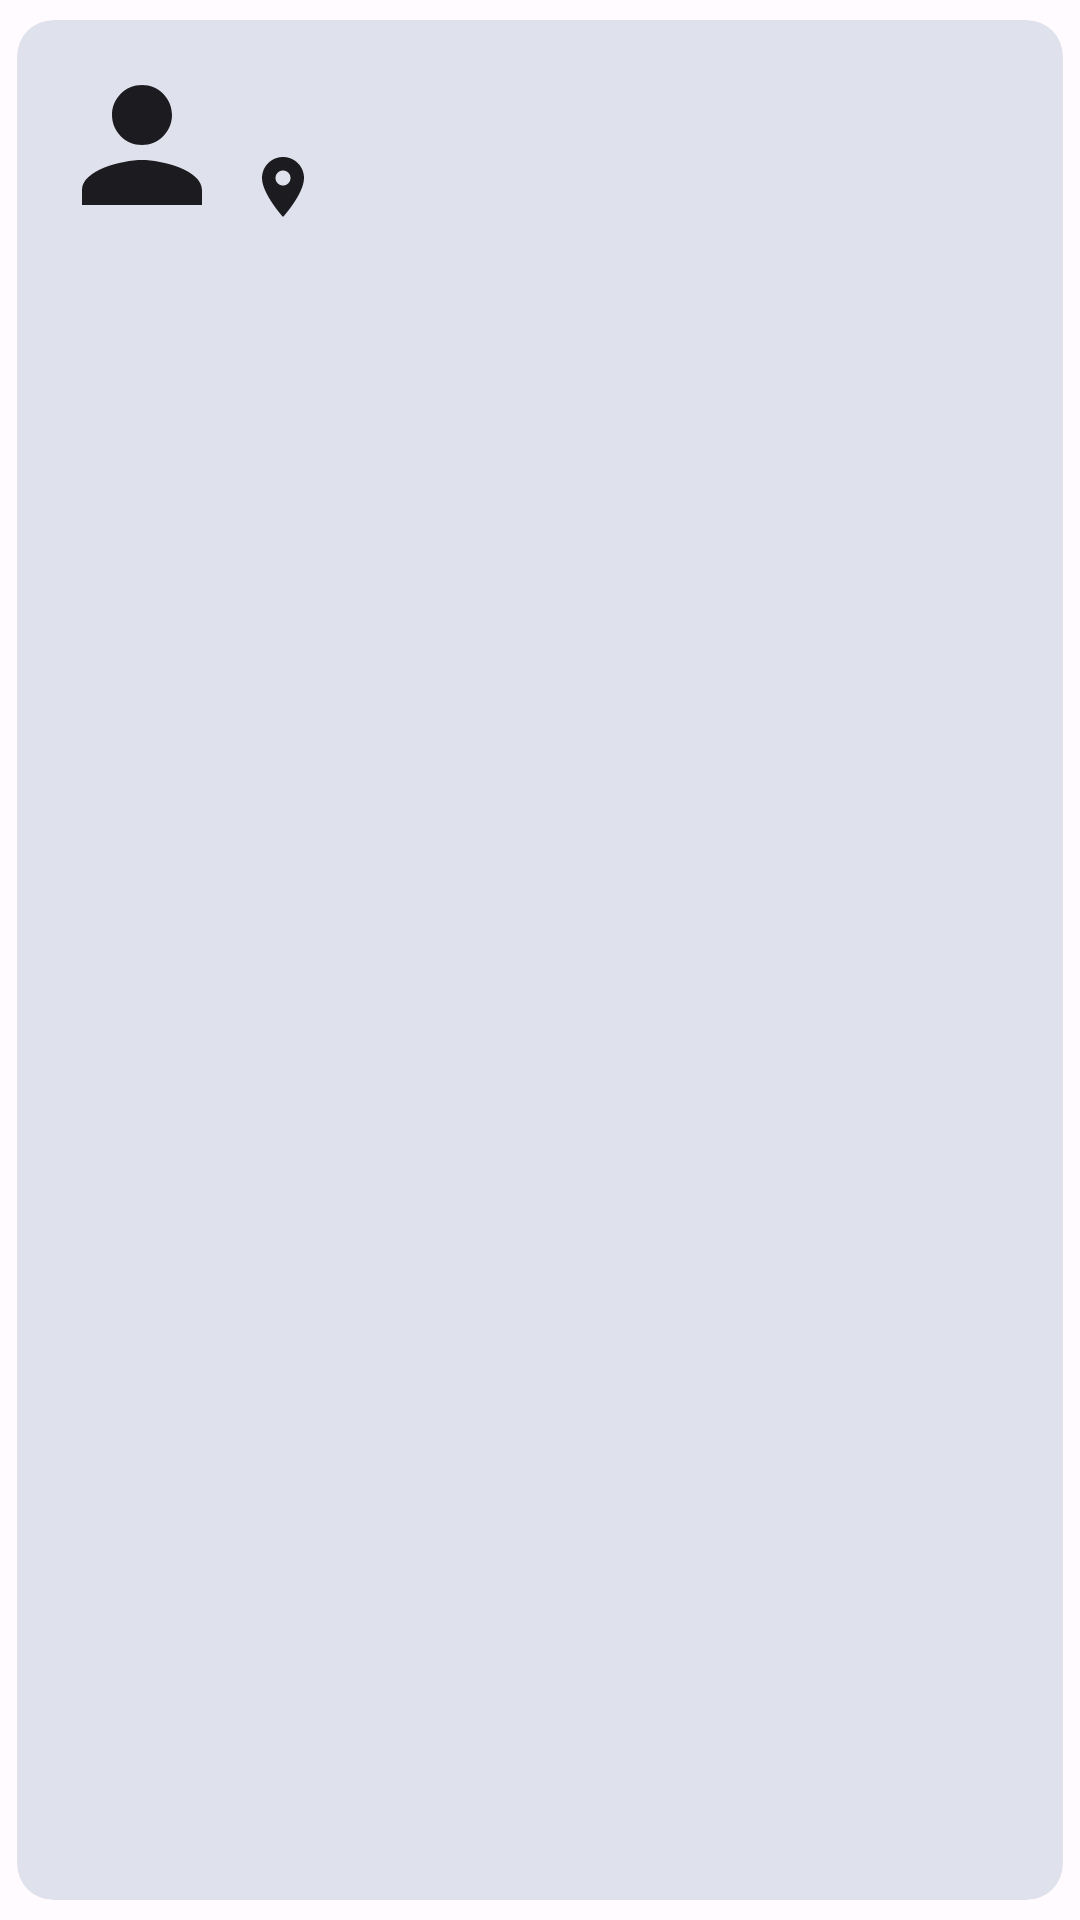

Named icons in this screenshot (1080w x 1920h) and their bounding boxes, (x1, y1, x2, y2):
profile: (82, 85, 202, 205)
